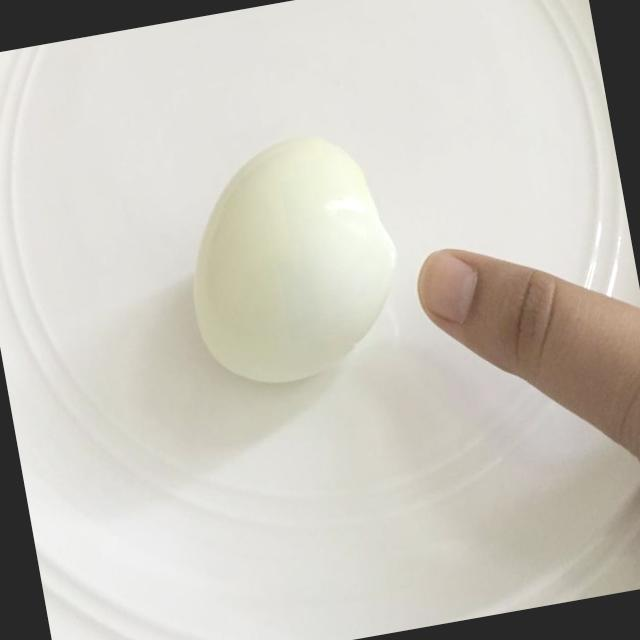Egg: (159, 116, 419, 406)
Finger: (400, 218, 588, 412)
